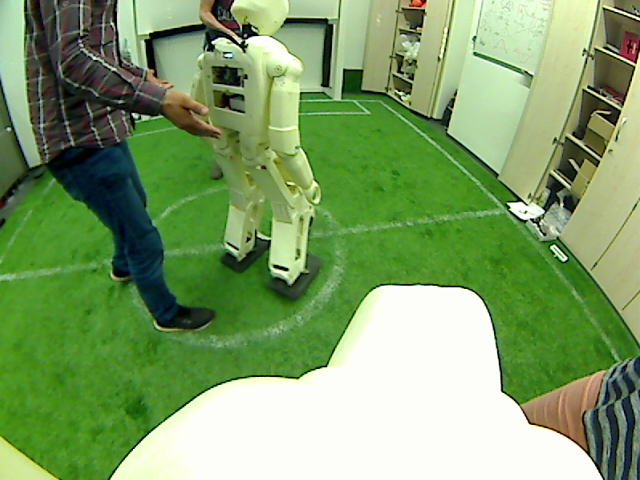goalpost: (327, 63, 345, 102), (137, 111, 151, 124)
robot: (257, 215, 291, 287)
